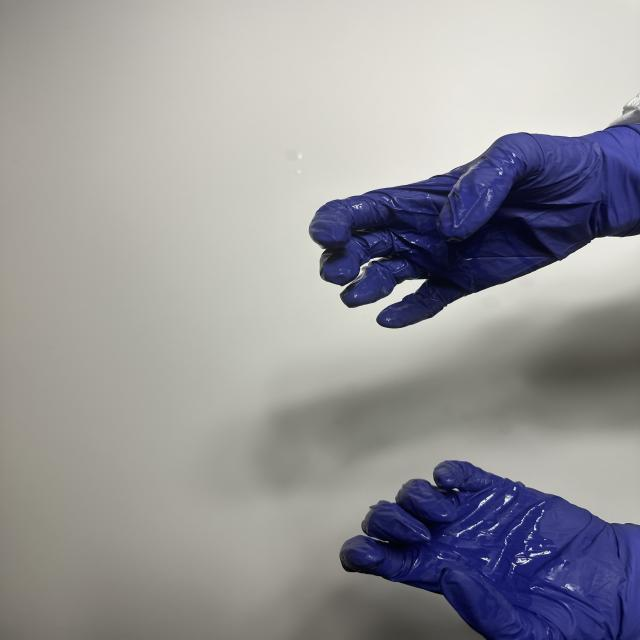gloves_contaminated: (309, 120, 640, 328), (340, 460, 640, 640)
